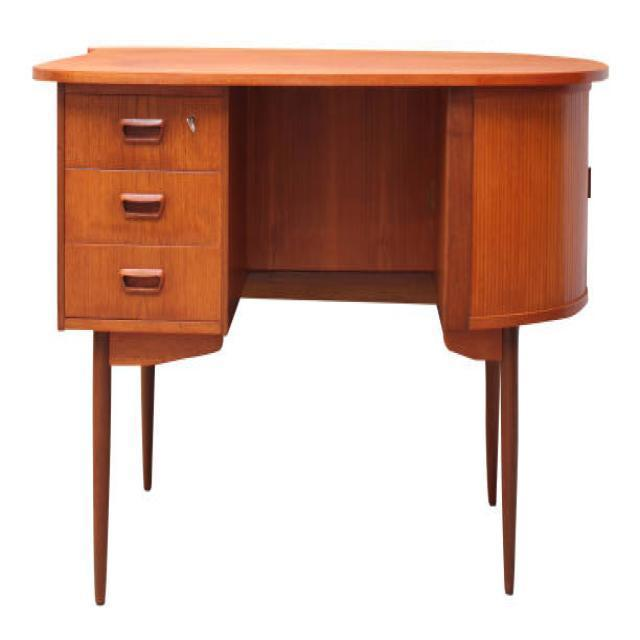table: (31, 42, 609, 606)
